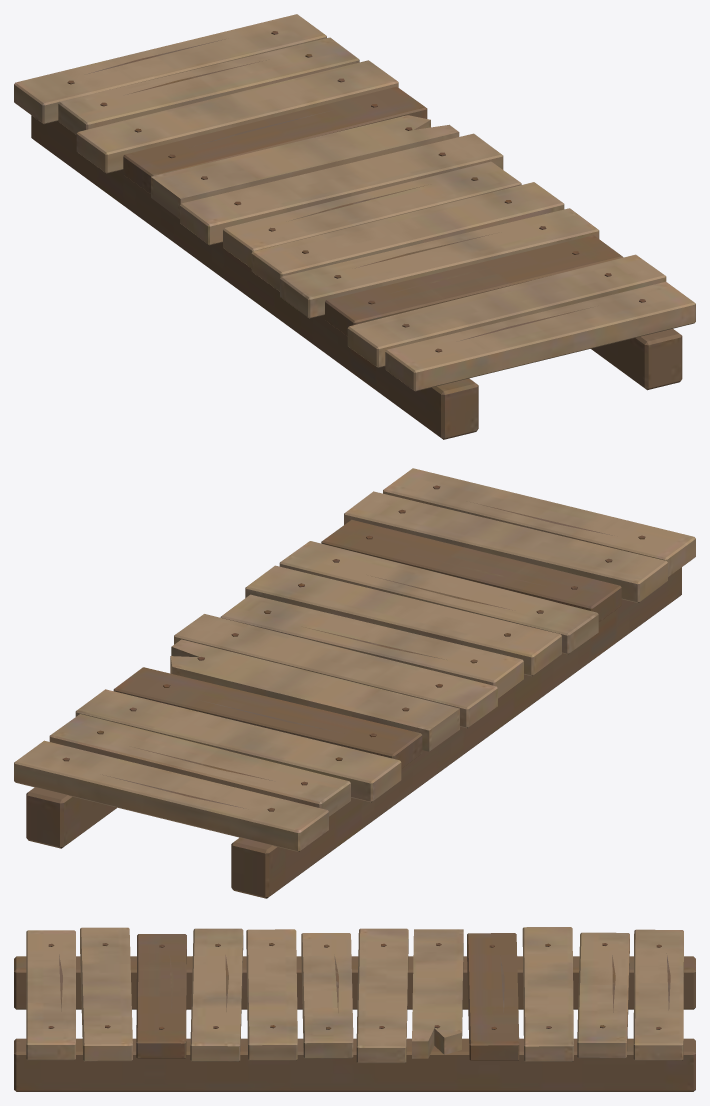
File: P27_plank_bridge.glb
3 views of the same model, one above another, from view 1: azimuth 30°, elevation 25°; view 2: azimuth 150°, elevation 25°; view 3: azimuth 270°, elevation 25° (orthographic). The views are drawn at different scales.
Visible parts, largest first — view 1: Weathered longitudinal sleeper; view 2: Weathered longitudinal sleeper; view 3: Weathered longitudinal sleeper.
Part boxes in pixels (x1,y1,x2,y2): Weathered longitudinal sleeper: [14, 14, 695, 439]; Weathered longitudinal sleeper: [14, 468, 695, 898]; Weathered longitudinal sleeper: [14, 927, 695, 1091].
Bounding box in the file's own units: 0.8344 × 0.1911 × 2.
3 materials, 3 textured.
